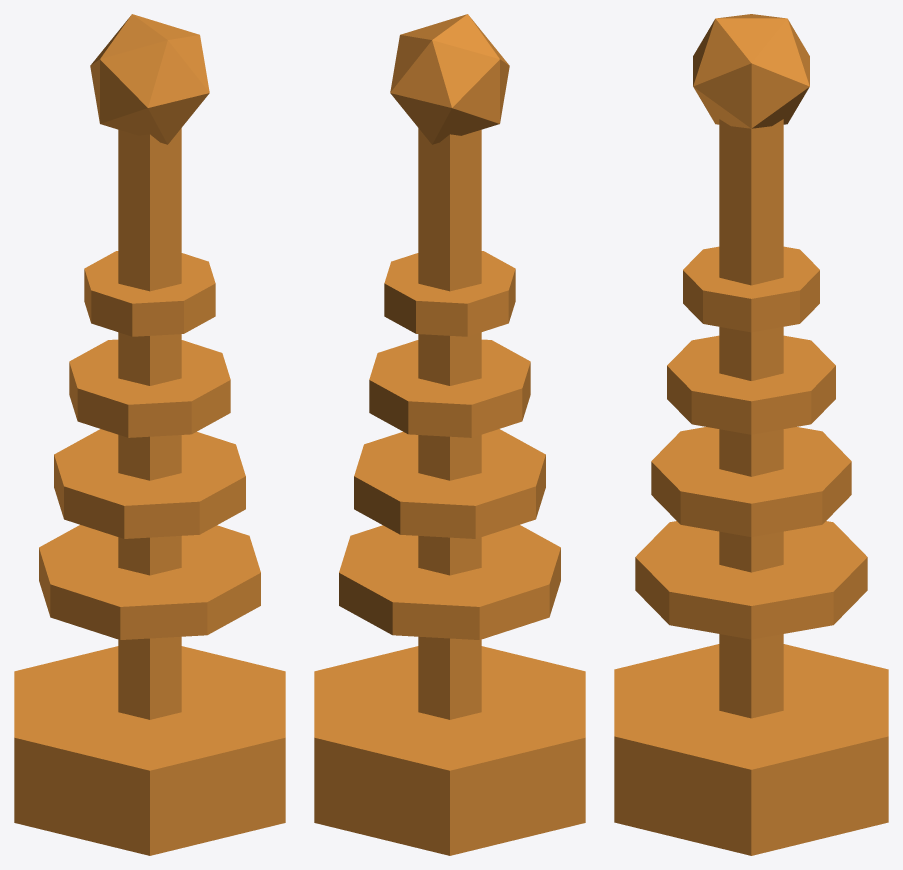
File: spire.glb
3 views of the same model, side by side, from view 1: azimuth 30°, elevation 25°; view 2: azimuth 150°, elevation 25°; view 3: azimuth 270°, elevation 25° (orthographic).
Visible parts, largest first — view 1: Base, Mast, R0, R1, Ball, R2, R3; view 2: Base, Mast, R0, R1, Ball, R2, R3; view 3: Base, Mast, R0, R1, R2, Ball, R3.
Part boxes in pixels (x1,y1,x2,y2): Base: (14, 646, 285, 855); Mast: (118, 128, 181, 719); R0: (39, 525, 260, 639); R1: (54, 429, 245, 538); Ball: (90, 14, 209, 144); R2: (69, 339, 230, 437); R3: (84, 251, 215, 336); Base: (314, 646, 585, 855); Mast: (418, 128, 481, 719); R0: (339, 525, 560, 639); R1: (354, 429, 545, 538); Ball: (390, 14, 509, 144); R2: (369, 339, 530, 437); R3: (384, 251, 515, 336); Base: (614, 644, 888, 855); Mast: (719, 119, 783, 718); R0: (635, 521, 867, 639); R1: (651, 427, 851, 536); R2: (667, 335, 835, 434); Ball: (693, 14, 809, 128); R3: (683, 246, 819, 332).
Bounding box in the file's own units: 0.6 × 1.61 × 0.5196.
